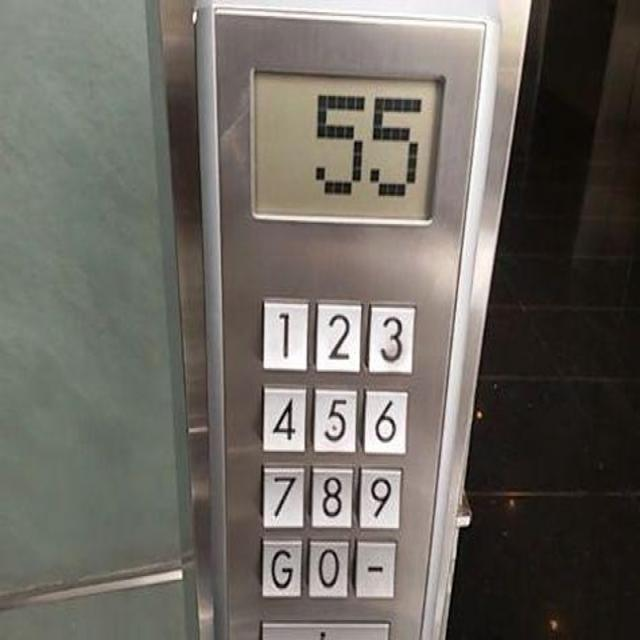-: (352, 535, 398, 601)
0: (303, 536, 350, 603)
1: (257, 296, 311, 373)
2: (310, 297, 365, 375)
3: (362, 300, 417, 377)
4: (258, 382, 307, 454)
5: (309, 384, 359, 456)
6: (358, 382, 407, 454)
7: (257, 460, 306, 532)
8: (305, 460, 355, 532)
9: (354, 462, 403, 534)
G: (257, 536, 303, 603)
led: (246, 59, 449, 232)
